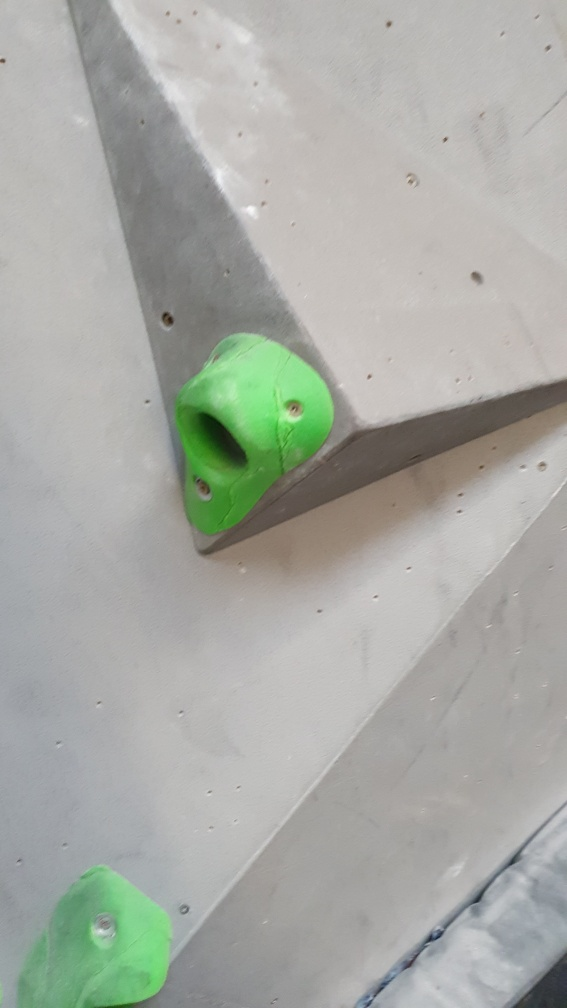Pocket: (175, 332, 334, 535)
